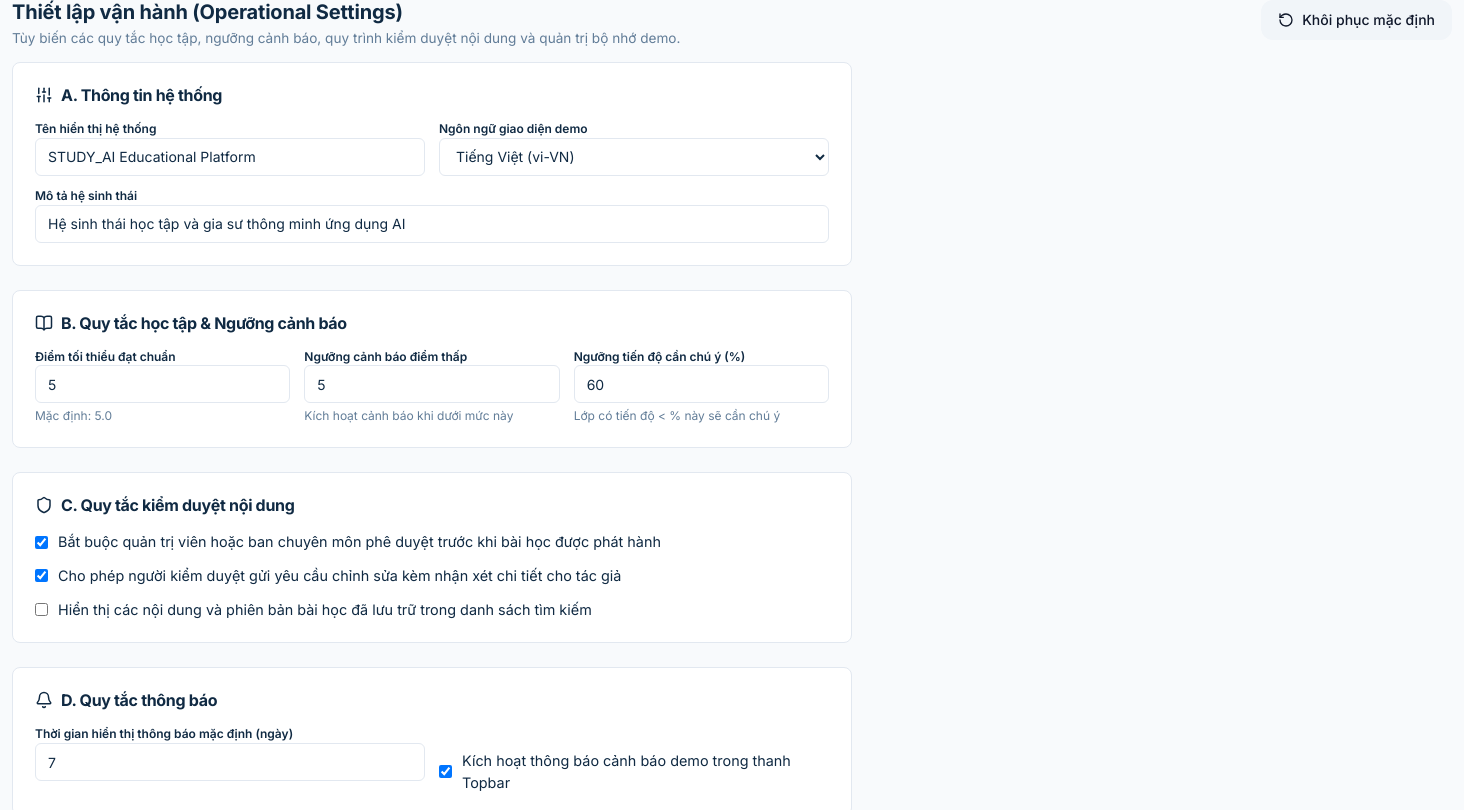
Scenario: Admin Workspace V5 — Operations, Content Approval & Quality Control Suite › 7. Thiết lập vận hành (AdminSettingsPage) › renders settings page, updates passing threshold and saves
Expected: the heading "Thiết lập vận hành (Operational Settings)" is shown, [12,0,403,24]
Replace the text in the number field labelled "Điểm tối thiểu đạt chuẩn" with "6.0": (163, 384) [35,365,290,403]
(page scrolled)
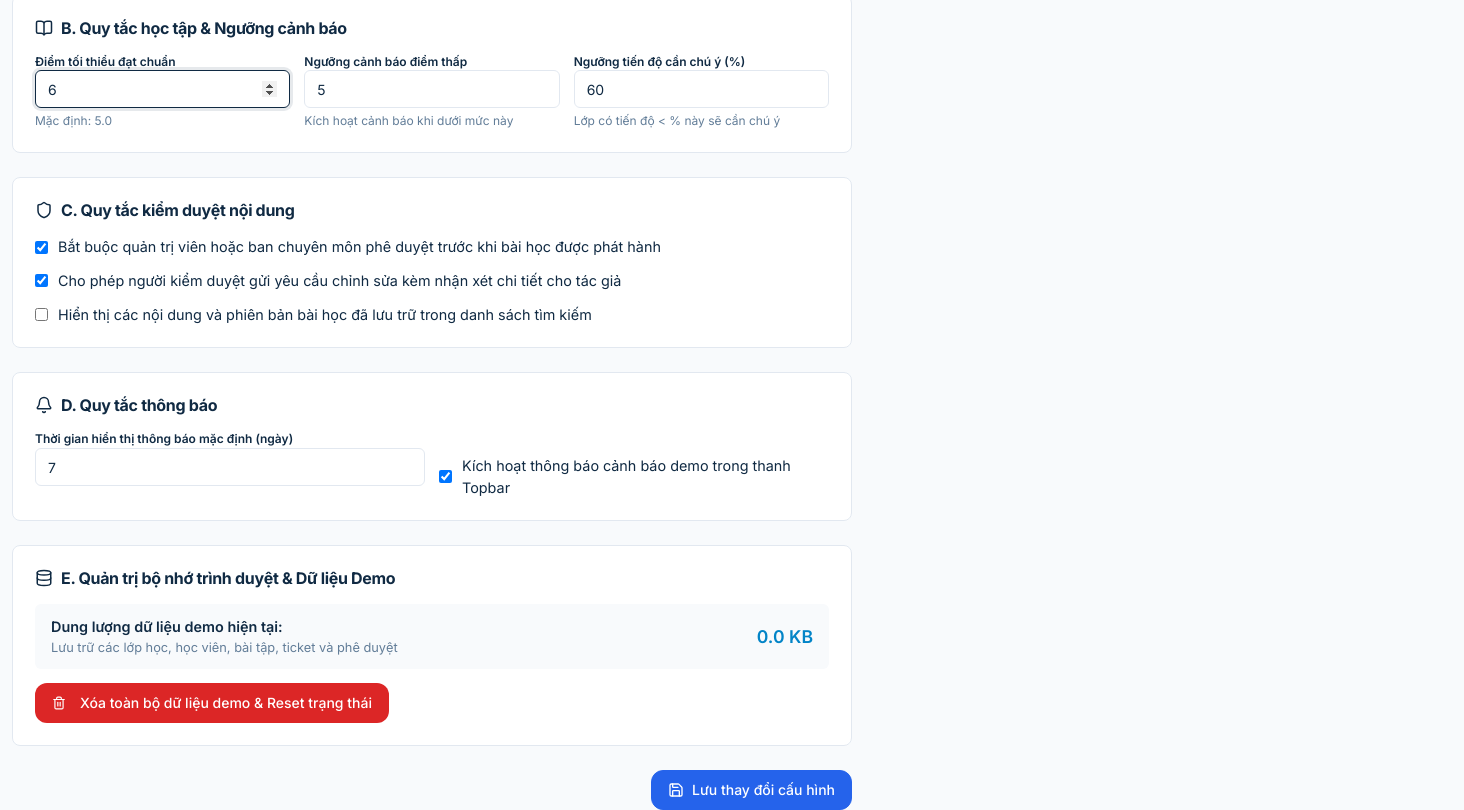
Click the button "Lưu thay đổi cấu hình": (752, 790) [651,770,852,809]
(page scrolled)
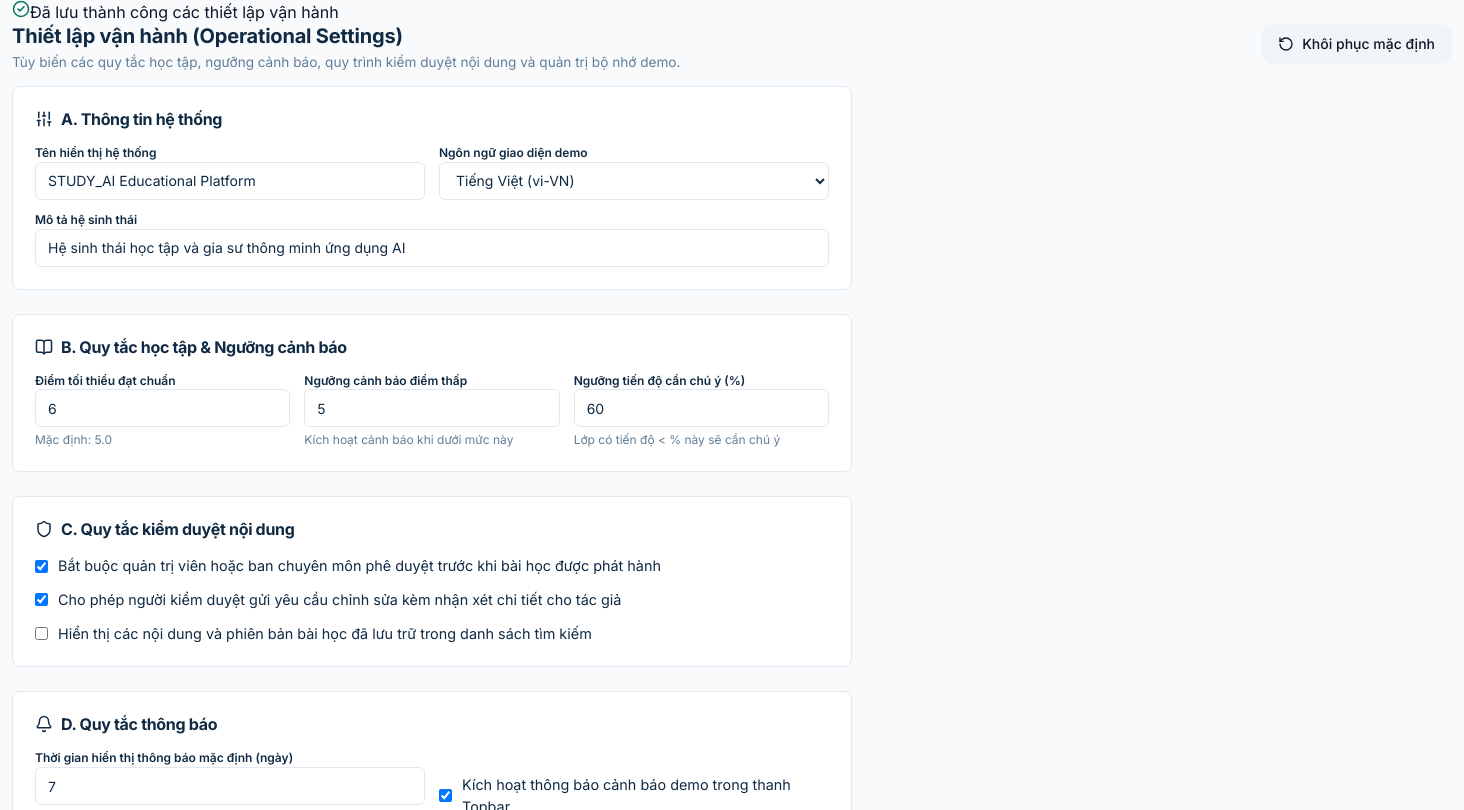
Expected: the text "Đã lưu thành công các thiết lập vận hành" is shown, [30,2,339,22]
